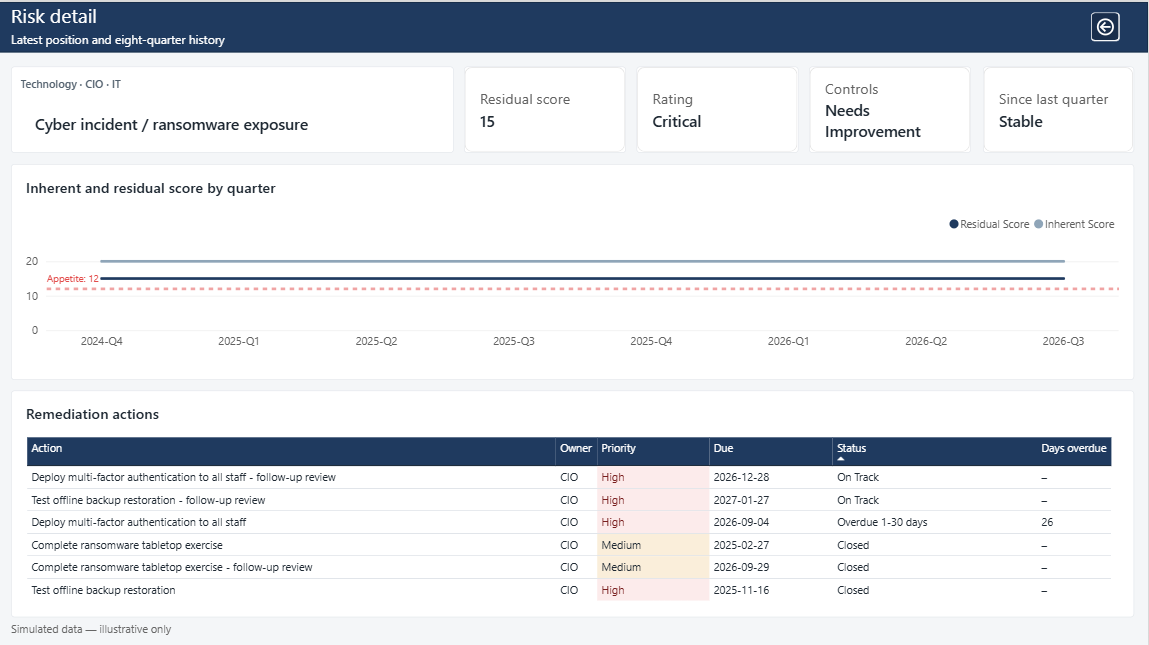

The page's visual inventory and layout, read from the dashboard file:
{"tool":"powerbi","page":{"name":"Risk detail","canvas":[1280,720],"ordinal":4},"visuals":[{"type":"shape","box":[0,0,1280,56],"z":0},{"type":"textbox","box":[16,0,272,32],"z":1000},{"type":"textbox","box":[16,32,272,32],"z":2000},{"type":"textbox","box":[16,688,224,16],"z":3000},{"type":"actionButton","box":[1216,12,32,32],"z":4000},{"type":"cardVisual","fields":{"Data":["_Measures.Selected Risk"]},"box":[16,72,492,96],"z":5000},{"type":"cardVisual","fields":{"Data":["_Measures.Residual Rating"]},"box":[712,72,180,96],"z":6000},{"type":"cardVisual","fields":{"Data":["_Measures.Residual Score"]},"box":[520,72,180,96],"z":7000},{"type":"cardVisual","fields":{"Data":["_Measures.Direction of Travel"]},"box":[1096,72,168,96],"z":8000},{"type":"cardVisual","fields":{"Data":["_Measures.Control Effectiveness"]},"box":[904,72,180,96],"z":9000},{"type":"lineChart","title":"Inherent and residual score by quarter","fields":{"Category":["public dim_quarter.quarter"],"Y":["_Measures.Residual Score","_Measures.Inherent Score"]},"box":[16,180,1248,240],"z":10000},{"type":"tableEx","title":"Remediation actions","fields":{"Values":["Action.action_description","Action.owner","Action.priority","Action.due_date","Action.aging_bucket","Action.Days Overdue"]},"box":[16,432,1248,252],"z":11000}]}

Visuals, with their boxes in screenshot pixels (x1, y1, x2, y2), scaled from the page's 1280x720 canvas onto the 1149x645 screenshot:
shape: (left=0, top=0, right=1148, bottom=50)
textbox: (left=14, top=0, right=259, bottom=29)
textbox: (left=14, top=29, right=259, bottom=57)
textbox: (left=14, top=616, right=215, bottom=631)
actionButton: (left=1092, top=11, right=1120, bottom=39)
cardVisual - _Measures.Selected Risk: (left=14, top=64, right=456, bottom=150)
cardVisual - _Measures.Residual Rating: (left=639, top=64, right=801, bottom=150)
cardVisual - _Measures.Residual Score: (left=467, top=64, right=628, bottom=150)
cardVisual - _Measures.Direction of Travel: (left=984, top=64, right=1135, bottom=150)
cardVisual - _Measures.Control Effectiveness: (left=811, top=64, right=973, bottom=150)
"Inherent and residual score by quarter" lineChart: (left=14, top=161, right=1135, bottom=376)
"Remediation actions" tableEx: (left=14, top=387, right=1135, bottom=613)
